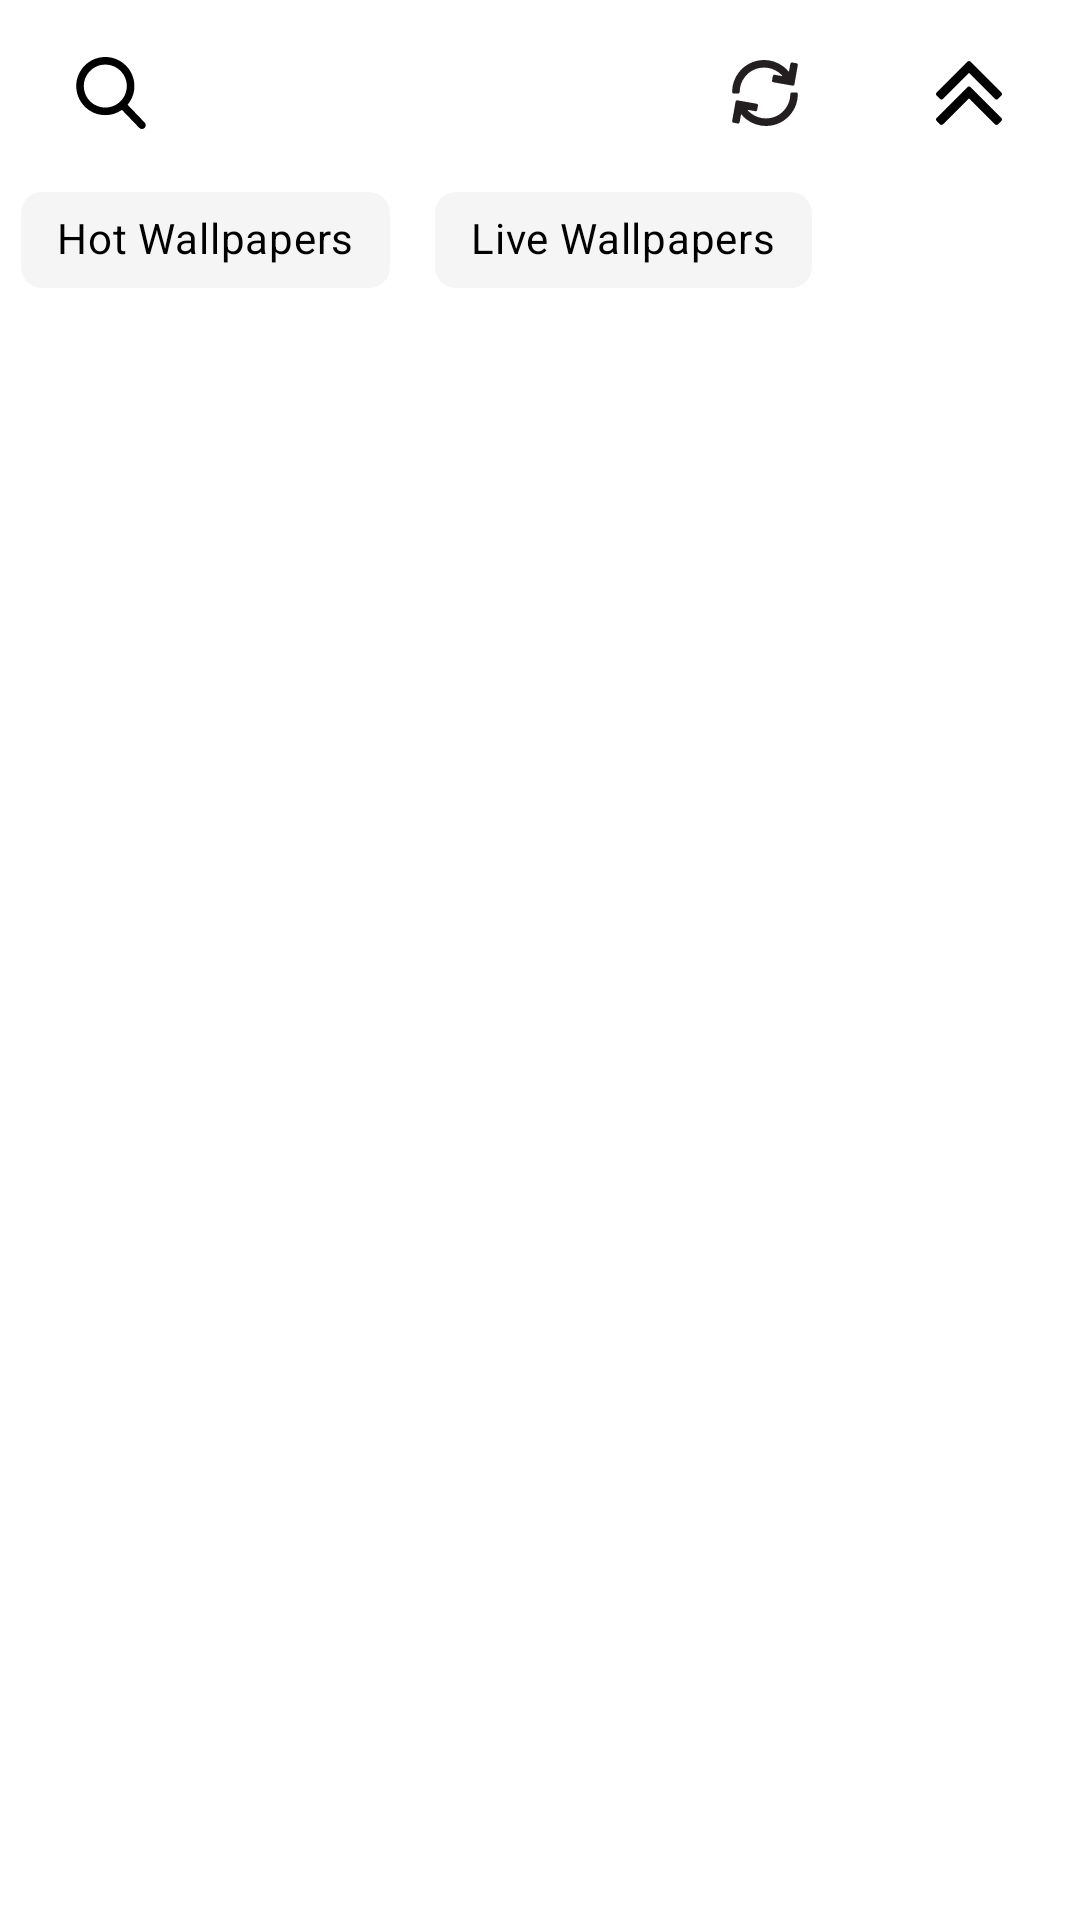

Where icons sit on this 1080w x 1920h app screen, as (x1, y1, x2, y2):
double up arrow: (936, 61, 1002, 125)
refresh: (732, 60, 798, 126)
search: (76, 57, 146, 129)
